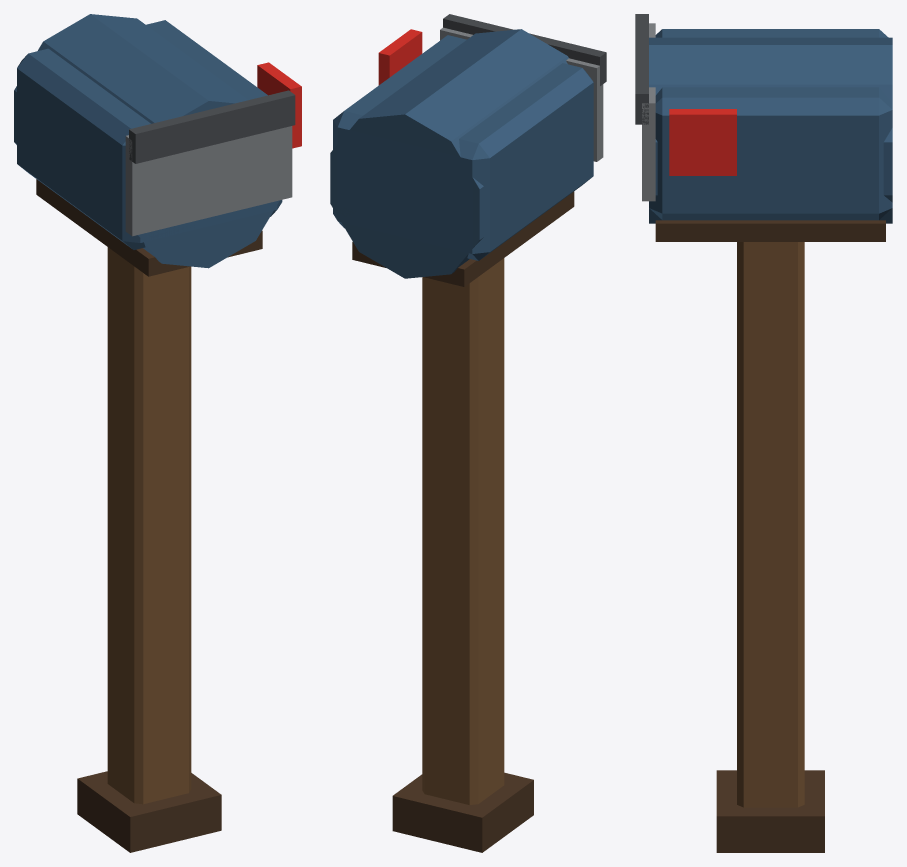
File: mailbox.fbx
3 views of the same model, side by side, from view 1: azimuth 30°, elevation 25°; view 2: azimuth 150°, elevation 25°; view 3: azimuth 270°, elevation 25° (orthographic). The views are drawn at different scales.
Parts seen in each view (by area): view 1: mailbox; view 2: mailbox; view 3: mailbox.
Part boxes in pixels (<box>): mailbox: <box>14,14,301,852</box>; mailbox: <box>330,14,606,852</box>; mailbox: <box>635,14,892,852</box>.
Bounding box in the file's own units: 0.32 × 1.28 × 0.38.
